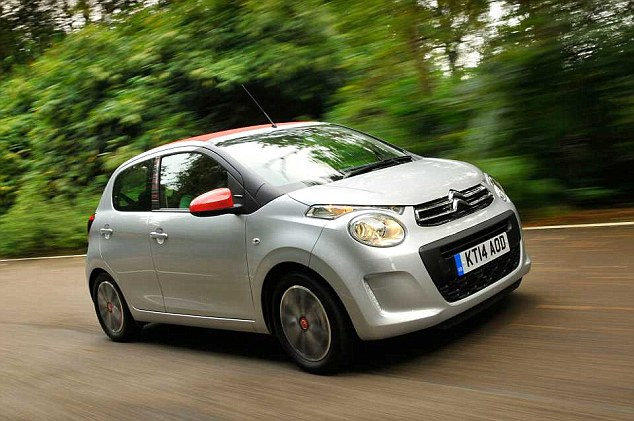Carro: (71, 116, 536, 366)
